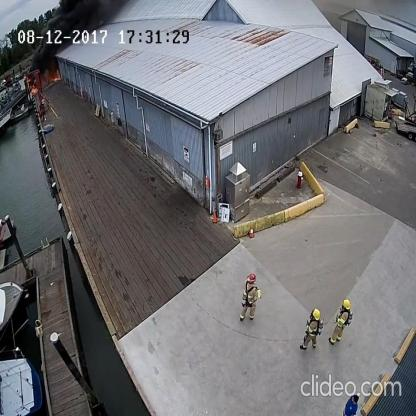fire: (26, 76, 37, 94), (53, 70, 61, 83)
